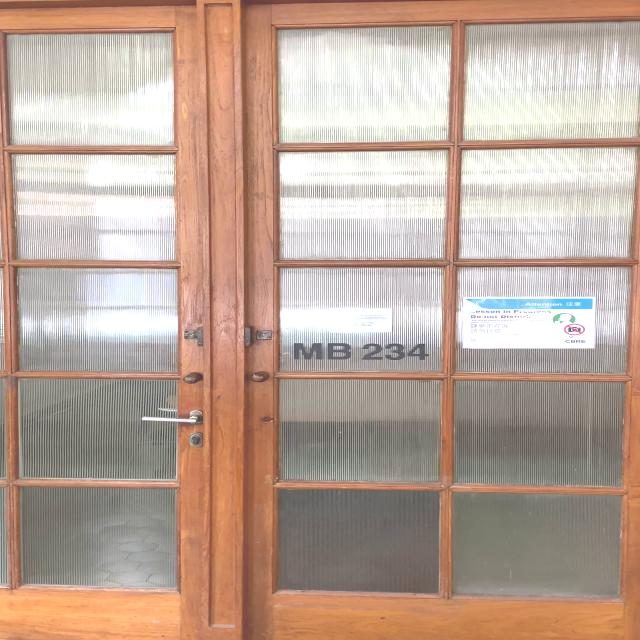room234Window: (284, 334, 436, 368)
